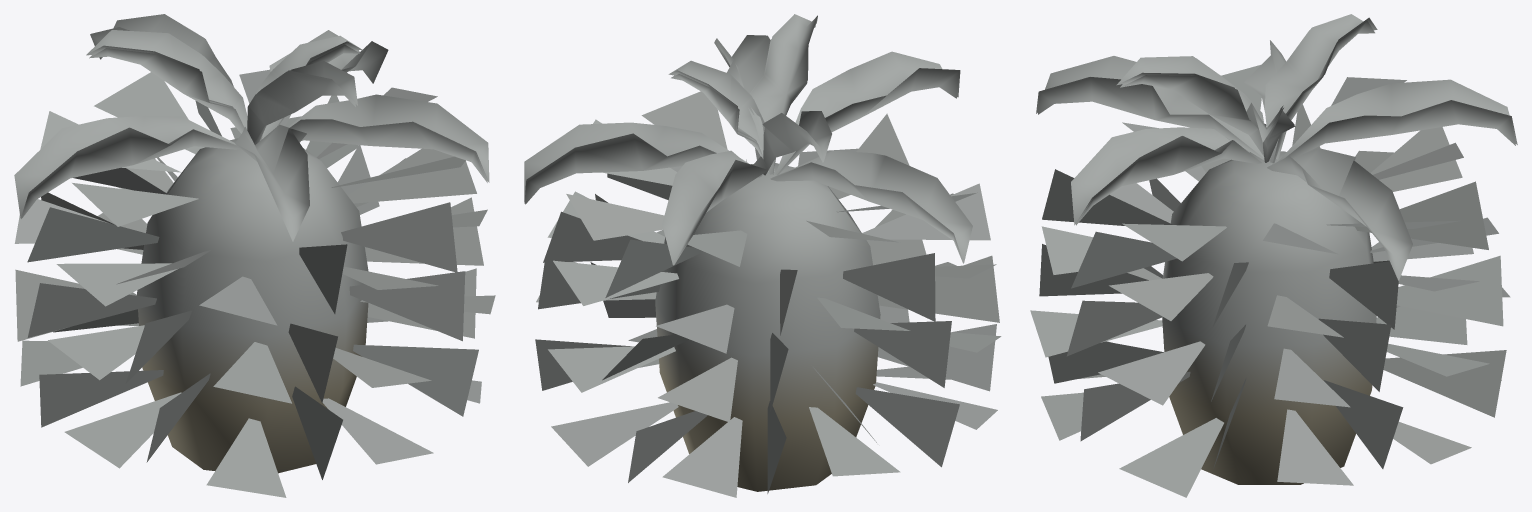
3 views of the same model, side by side, from view 1: azimuth 30°, elevation 25°; view 2: azimuth 150°, elevation 25°; view 3: azimuth 270°, elevation 25° (orthographic). The views are drawn at different scales.
Visible parts, largest first — view 1: G:\FFXIV-MapTools\exports\x6f2\bg\ex5\01_xkt_x6\fld\x6f2\bgp (×2); view 2: G:\FFXIV-MapTools\exports\x6f2\bg\ex5\01_xkt_x6\fld\x6f2\bgp (×2); view 3: G:\FFXIV-MapTools\exports\x6f2\bg\ex5\01_xkt_x6\fld\x6f2\bgp (×2).
Part boxes in pixels (box(x1,y1,x2,y2)): G:\FFXIV-MapTools\exports\x6f2\bg\ex5\01_xkt_x6\fld\x6f2\bgp (×2): box(14, 14, 495, 497); G:\FFXIV-MapTools\exports\x6f2\bg\ex5\01_xkt_x6\fld\x6f2\bgp (×2): box(524, 14, 1001, 497); G:\FFXIV-MapTools\exports\x6f2\bg\ex5\01_xkt_x6\fld\x6f2\bgp (×2): box(1030, 14, 1517, 497).
Bounding box in the file's own units: 3.74 × 3.39 × 3.72.
